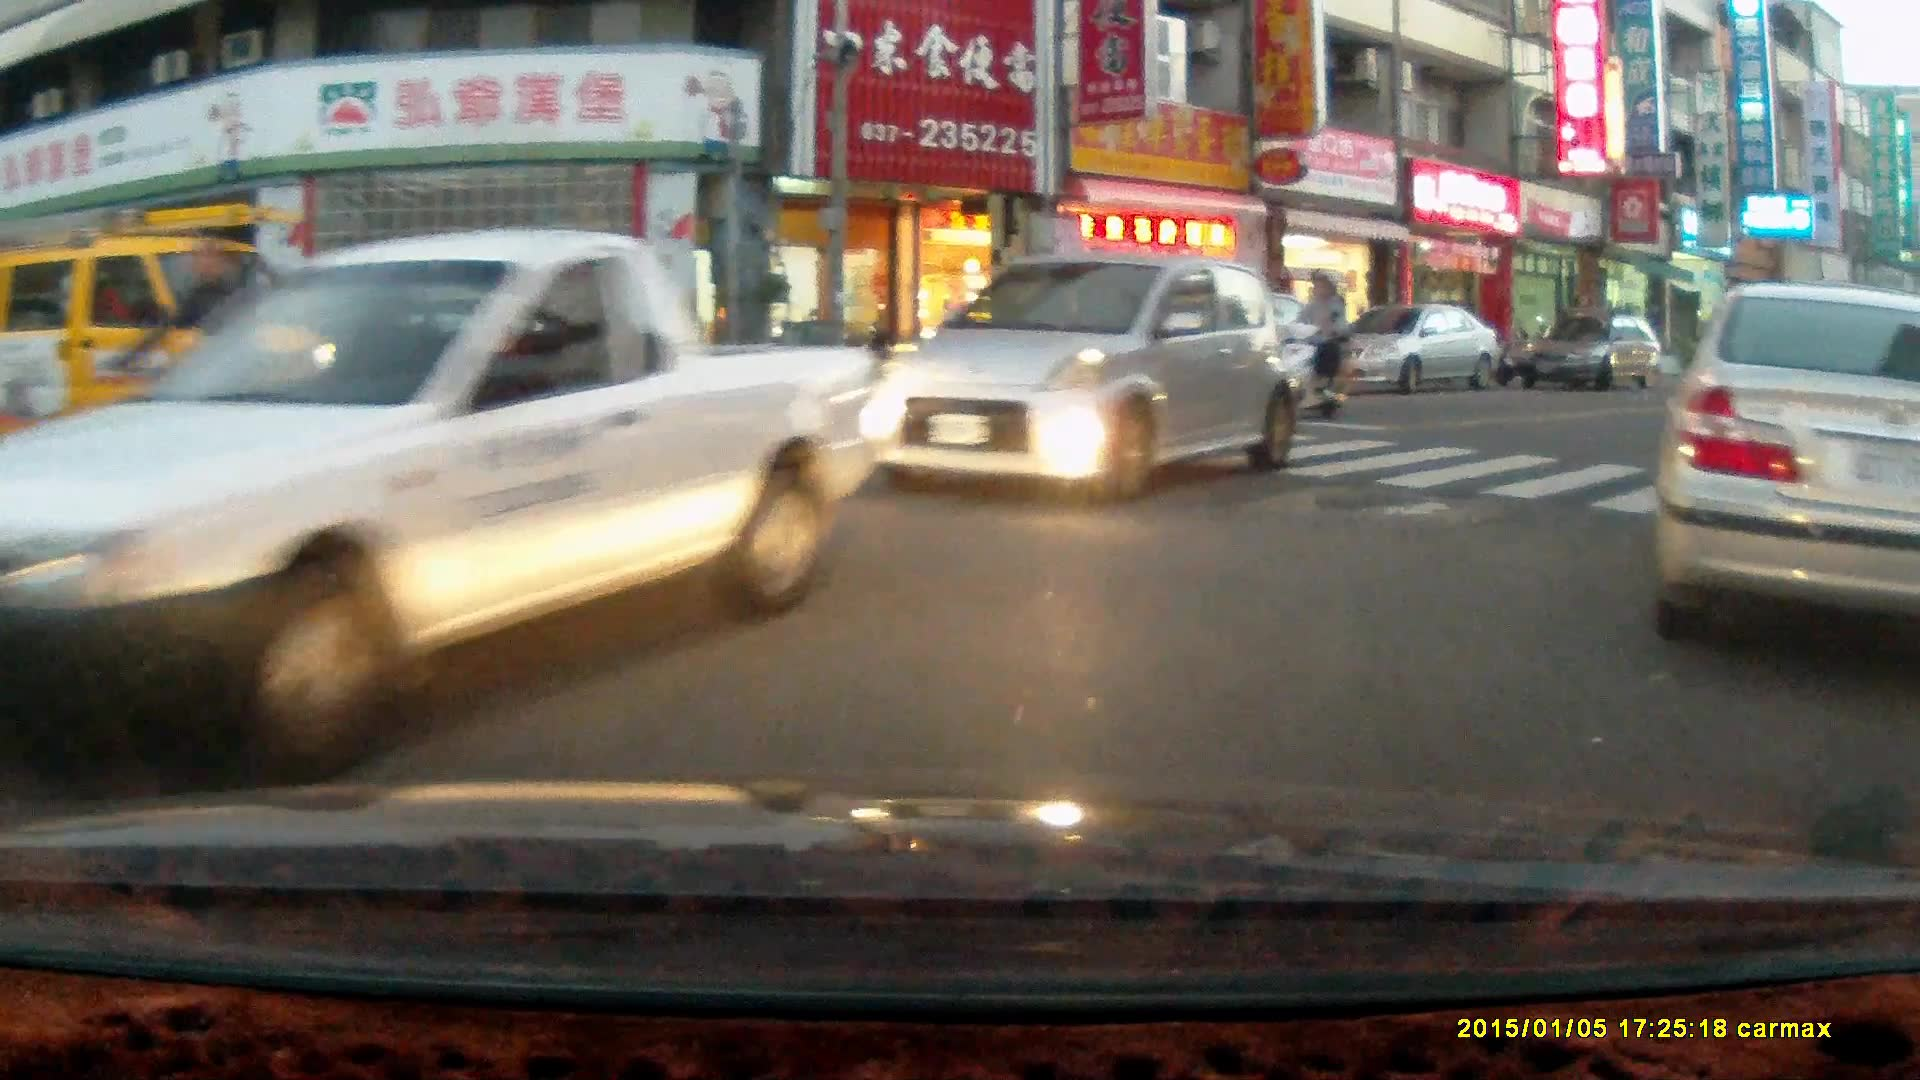rider: (85, 229, 350, 526), (1271, 264, 1351, 423)
vehicle: (16, 226, 911, 759), (853, 253, 1312, 502), (1660, 280, 1917, 672), (1, 200, 337, 483), (305, 290, 628, 435), (1340, 304, 1499, 392), (1514, 315, 1668, 390)
